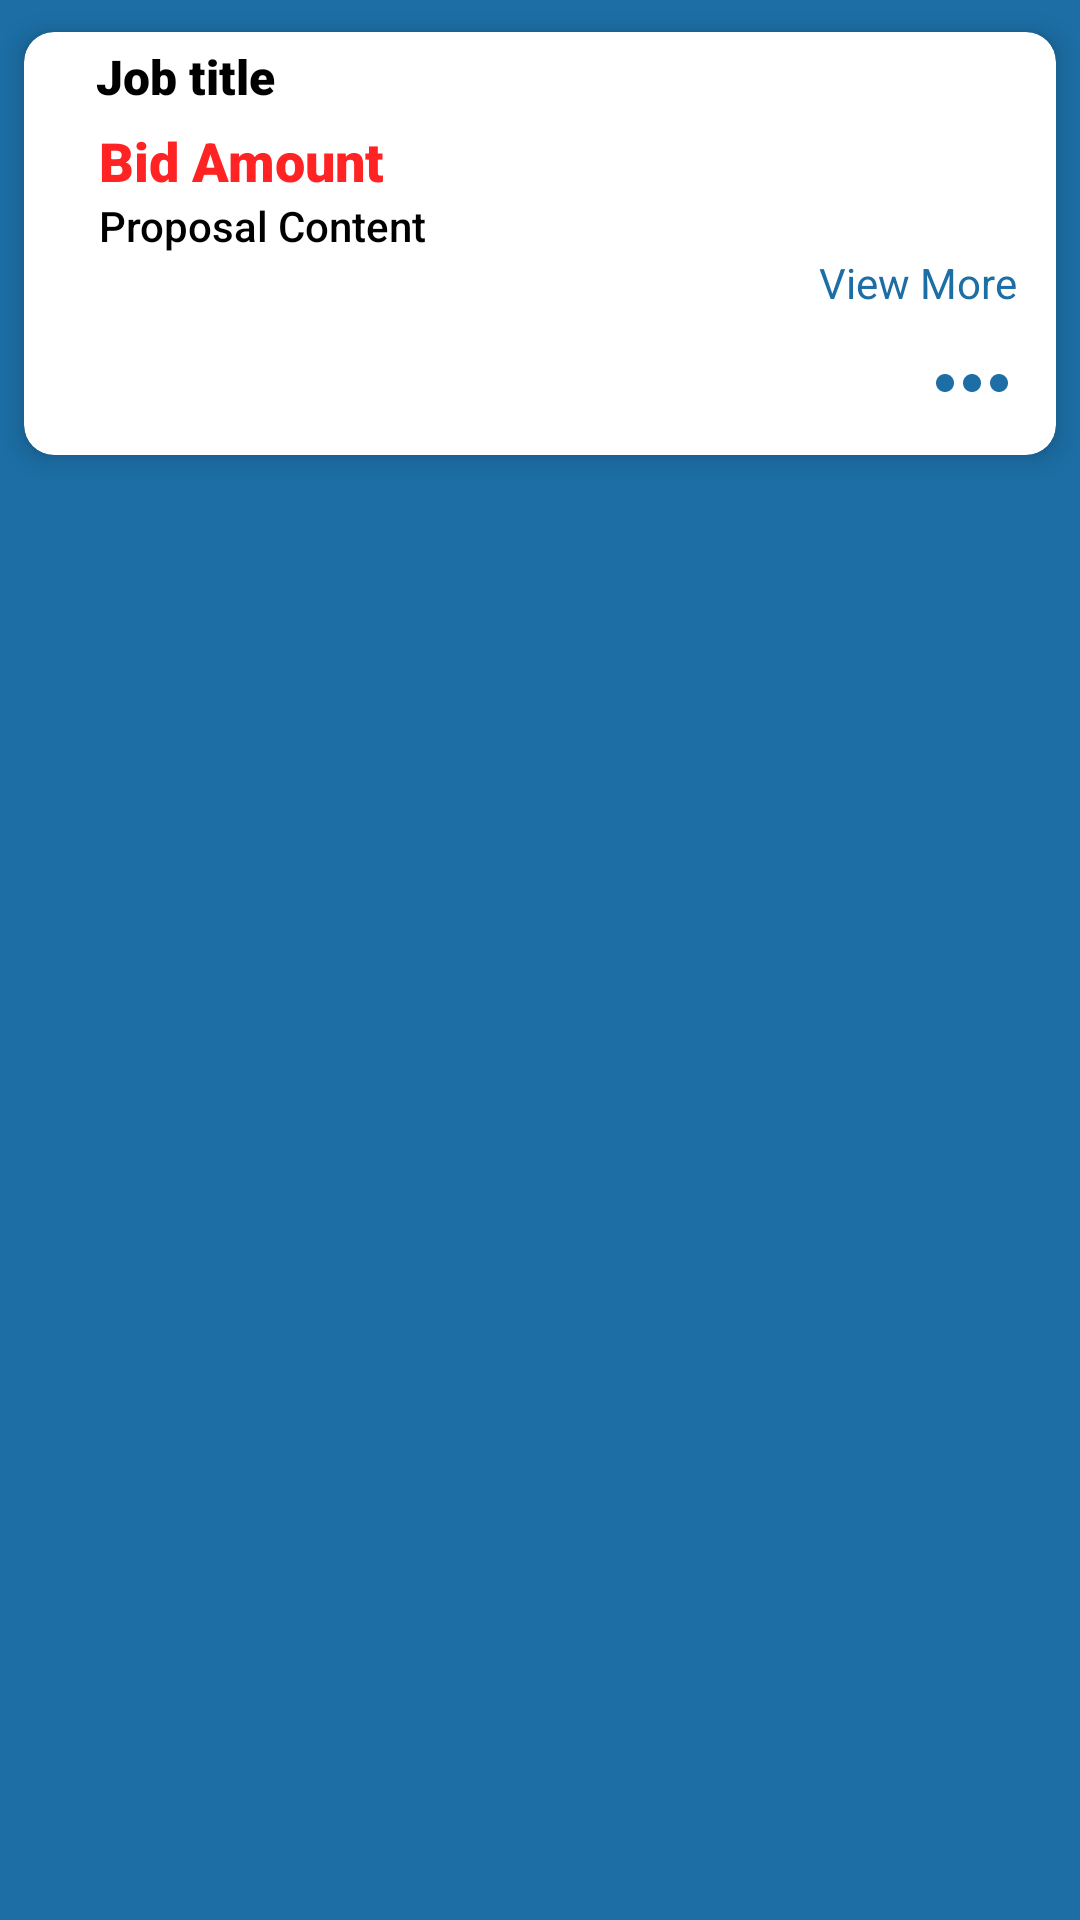

Screen size 1080px x 1920px. Icon name, then its center in pixels as [x,y]:
ellipsis: [972,383]
